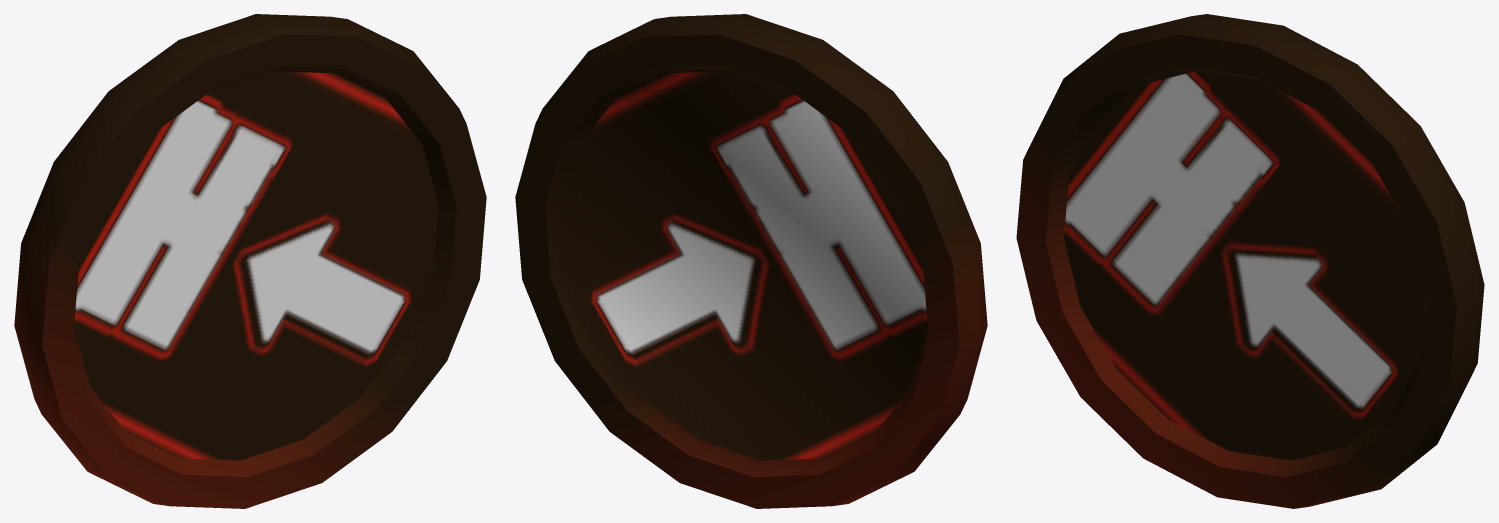
The model's file is list.ico.obj.
The picture shows the model from 3 angles, left to right: view 1: azimuth 30°, elevation 25°; view 2: azimuth 150°, elevation 25°; view 3: azimuth 330°, elevation 25°; orthographic projection.
Size of the model in its own units: 5 by 5 by 0.5273.
